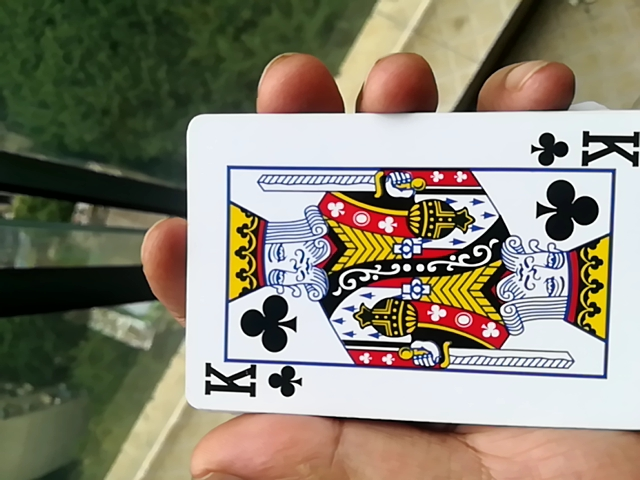mh k: (167, 112, 631, 436)
